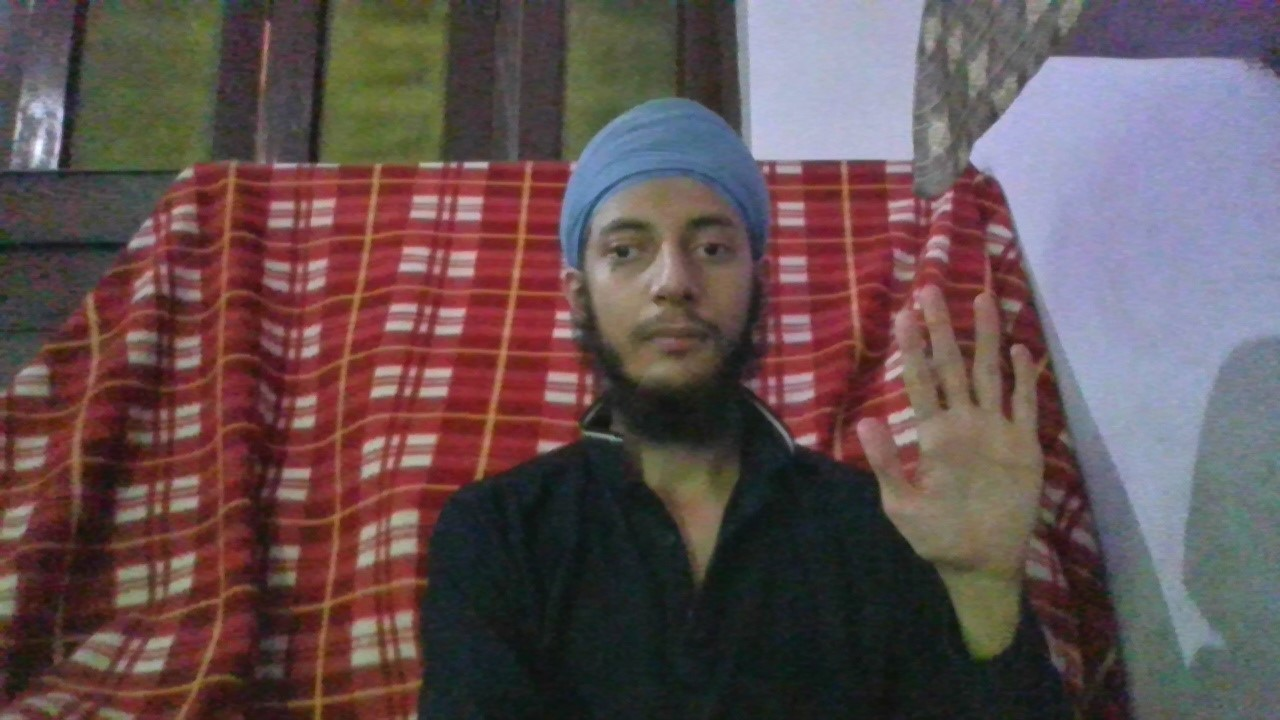Hello: (854, 281, 1046, 578)
